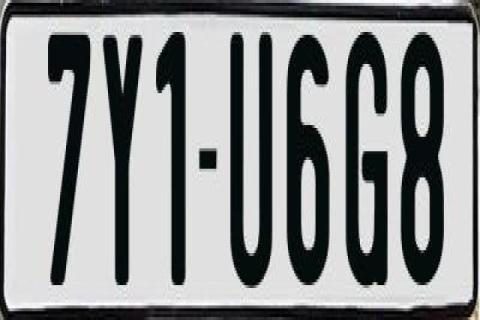0: (284, 29, 332, 297), (48, 32, 92, 300), (398, 23, 440, 276), (153, 27, 185, 286)
G: (344, 23, 392, 280)
U: (229, 32, 276, 300)
Y: (100, 29, 140, 288)
